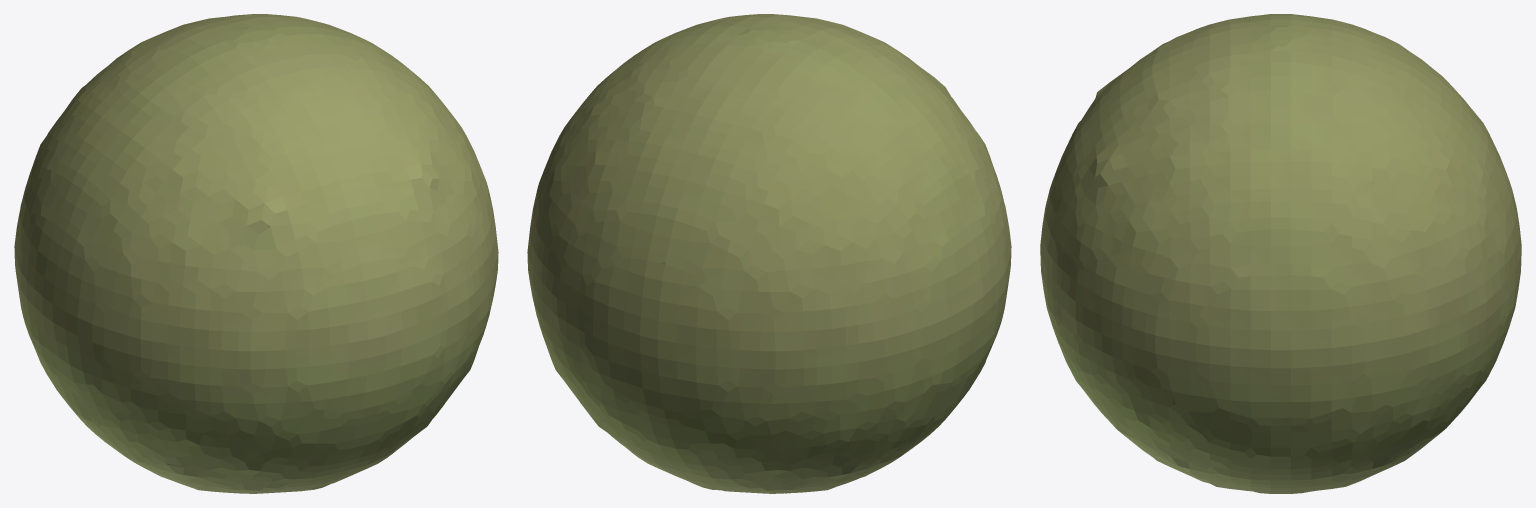
The model's file is jellyfish.glb.
3 renders of one model, left to right at view 1: azimuth 30°, elevation 25°; view 2: azimuth 150°, elevation 25°; view 3: azimuth 270°, elevation 25°, orthographic.
Visible parts, largest first — view 1: geometry_0; view 2: geometry_0; view 3: geometry_0.
Part boxes in pixels (x1,y1,x2,y2): geometry_0: (14,14,498,493); geometry_0: (527,14,1011,493); geometry_0: (1040,14,1521,493).
Bounding box in the file's own units: 1.02 × 0.9937 × 1.02.
Materials: 1 (1 with a texture image).
